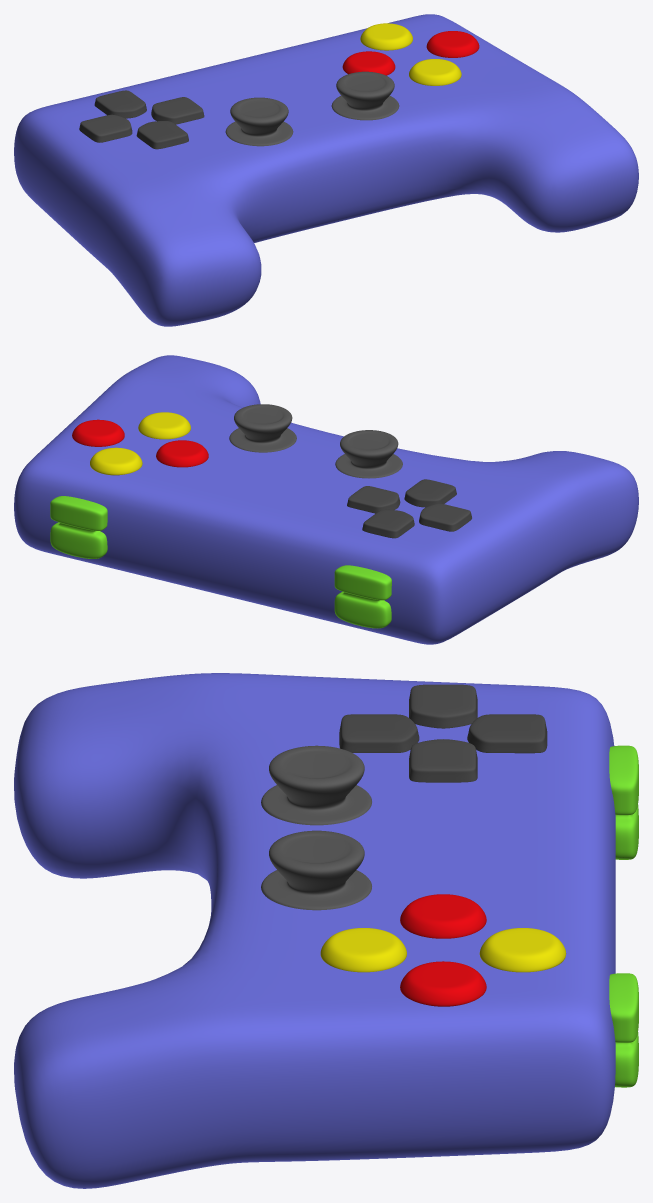
File: controller.glb
The picture shows the model from 3 angles, top to bottom: view 1: azimuth 30°, elevation 25°; view 2: azimuth 150°, elevation 25°; view 3: azimuth 270°, elevation 25°; orthographic projection. The views are drawn at different scales.
Visible parts, largest first — view 1: Object_2, Object_3, Object_6, Object_4, Object_5, Object_7; view 2: Object_2, Object_8, Object_3, Object_6, Object_7, Object_5, Object_4; view 3: Object_2, Object_3, Object_7, Object_6, Object_8, Object_5, Object_4.
Boxes of the visible parts, x1=… form: Object_2: x1=14, y1=14, x2=638, y2=326; Object_3: x1=225, y1=71, x2=399, y2=146; Object_6: x1=360, y1=23, x2=461, y2=85; Object_4: x1=79, y1=97, x2=204, y2=142; Object_5: x1=94, y1=90, x2=188, y2=149; Object_7: x1=342, y1=31, x2=479, y2=75; Object_2: x1=14, y1=355, x2=638, y2=644; Object_8: x1=50, y1=496, x2=391, y2=628; Object_3: x1=229, y1=404, x2=402, y2=478; Object_6: x1=90, y1=412, x2=190, y2=475; Object_7: x1=72, y1=419, x2=208, y2=467; Object_5: x1=362, y1=479, x2=456, y2=538; Object_4: x1=347, y1=486, x2=471, y2=531; Object_2: x1=14, y1=673, x2=615, y2=1188; Object_3: x1=261, y1=745, x2=371, y2=910; Object_7: x1=400, y1=894, x2=486, y2=1006; Object_6: x1=320, y1=928, x2=566, y2=972; Object_8: x1=609, y1=745, x2=638, y2=1087; Object_5: x1=339, y1=714, x2=547, y2=753; Object_4: x1=409, y1=684, x2=477, y2=782.
Size of the model in its own units: 4.53 by 1.11 by 3.07.
